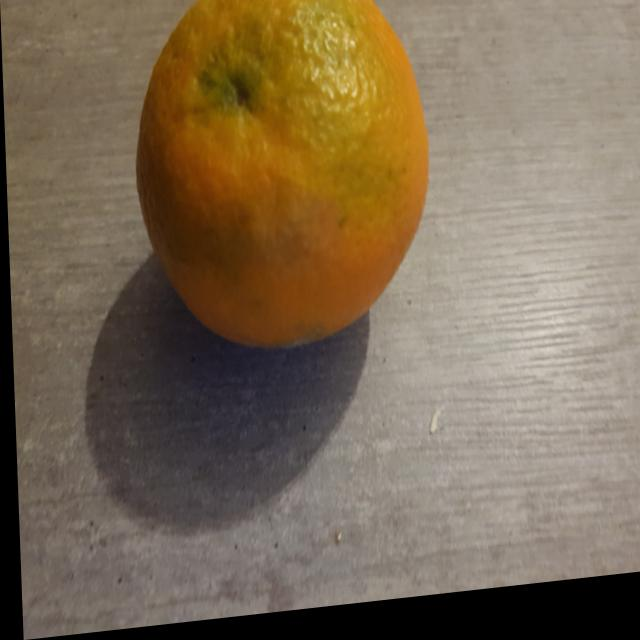Orange: (133, 0, 428, 359)
